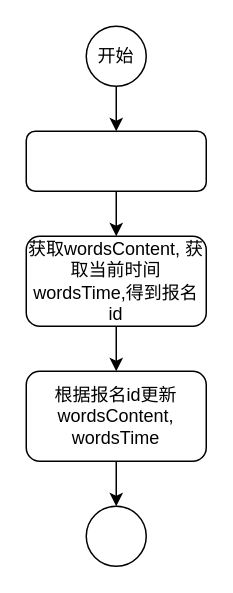
This 233x593 diagram has some shape labels left out. Here are the shapes that lost their labels. From the top down, the centre of each, then its label:
At point 115,160: "输入内容".
At point 115,535: "结束".
